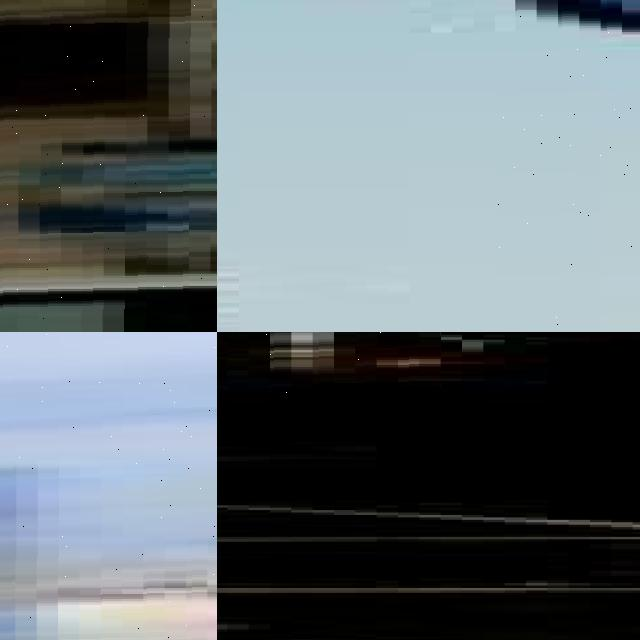street light: (0, 0, 217, 332), (0, 332, 217, 640), (495, 0, 640, 332), (217, 332, 440, 394)
